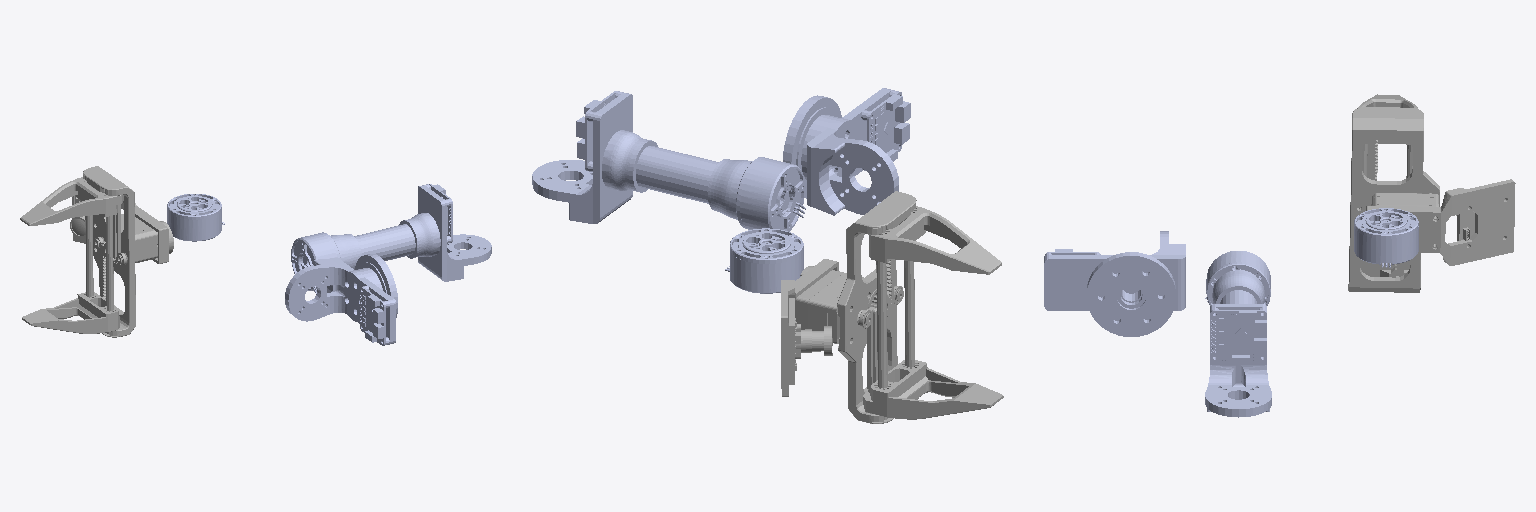
The robot description file, URDF, robot "5-DOF_Arm_ASY_URDF":
<?xml version="1.0" encoding="utf-8"?>
<!-- This URDF was automatically created by SolidWorks to URDF Exporter! Originally created by Stephen Brawner (brawner@gmail.com) 
     Commit Version: 1.6.0-4-g7f85cfe  Build Version: 1.6.7995.38578
     For more information, please see http://wiki.ros.org/sw_urdf_exporter -->
<robot
  name="5-DOF_Arm_ASY_URDF">
  <link
    name="base_link">
    <inertial>
      <origin
        xyz="-5.85060609928024E-05 0.0587381220866654 0.000290800376243343"
        rpy="0 0 0" />
      <mass
        value="0.710649787792469" />
      <inertia
        ixx="0.00155353209409219"
        ixy="2.99815409133027E-09"
        ixz="6.66006887803001E-09"
        iyy="0.0029251821454227"
        iyz="-2.88221197098525E-07"
        izz="0.00156713355051796" />
    </inertial>
    <visual>
      <origin
        xyz="0 0 0"
        rpy="0 0 0" />
      <geometry>
        <mesh
          filename="package://5-DOF_Arm_ASY_URDF/meshes/base_link.STL" />
      </geometry>
      <material
        name="">
        <color
          rgba="0.792156862745098 0.819607843137255 0.933333333333333 1" />
      </material>
    </visual>
    <collision>
      <origin
        xyz="0 0 0"
        rpy="0 0 0" />
      <geometry>
        <mesh
          filename="package://5-DOF_Arm_ASY_URDF/meshes/base_link.STL" />
      </geometry>
    </collision>
  </link>
  <link
    name="shoulder_link">
    <inertial>
      <origin
        xyz="0.00455797125216996 0.113495824081398 1.30475909774525E-08"
        rpy="0 0 0" />
      <mass
        value="0.938949864287003" />
      <inertia
        ixx="0.00327228287506373"
        ixy="-1.30793334529102E-05"
        ixz="-7.39855429715374E-09"
        iyy="0.00173953615004112"
        iyz="-5.20558993633893E-08"
        izz="0.00173416735571829" />
    </inertial>
    <visual>
      <origin
        xyz="0 0 0"
        rpy="0 0 0" />
      <geometry>
        <mesh
          filename="package://5-DOF_Arm_ASY_URDF/meshes/shoulder_link.STL" />
      </geometry>
      <material
        name="">
        <color
          rgba="0.792156862745098 0.819607843137255 0.933333333333333 1" />
      </material>
    </visual>
    <collision>
      <origin
        xyz="0 0 0"
        rpy="0 0 0" />
      <geometry>
        <mesh
          filename="package://5-DOF_Arm_ASY_URDF/meshes/shoulder_link.STL" />
      </geometry>
    </collision>
  </link>
  <joint
    name="shoulder_pan"
    type="revolute">
    <origin
      xyz="0 0.08968 0"
      rpy="0 0 0" />
    <parent
      link="base_link" />
    <child
      link="shoulder_link" />
    <axis
      xyz="0 1 0" />
    <limit
      lower="-1.57"
      upper="1.57"
      effort="6"
      velocity="2.094" />
  </joint>
  <link
    name="upper_arm_link">
    <inertial>
      <origin
        xyz="-0.0018075056743334 0.173246571191649 4.08974846750389E-05"
        rpy="0 0 0" />
      <mass
        value="0.801352411341916" />
      <inertia
        ixx="0.00144154894015789"
        ixy="-7.04457401512263E-05"
        ixz="-5.86484554602265E-08"
        iyy="0.00071947200534214"
        iyz="-1.80844924602234E-07"
        izz="0.000915020760862957" />
    </inertial>
    <visual>
      <origin
        xyz="0 0 0"
        rpy="0 0 0" />
      <geometry>
        <mesh
          filename="package://5-DOF_Arm_ASY_URDF/meshes/upper_arm_link.STL" />
      </geometry>
      <material
        name="">
        <color
          rgba="0.752941176470588 0.752941176470588 1 1" />
      </material>
    </visual>
    <collision>
      <origin
        xyz="0 0 0"
        rpy="0 0 0" />
      <geometry>
        <mesh
          filename="package://5-DOF_Arm_ASY_URDF/meshes/upper_arm_link.STL" />
      </geometry>
    </collision>
  </link>
  <joint
    name="shoulder_lift"
    type="revolute">
    <origin
      xyz="0 0.122 0"
      rpy="0 0 0" />
    <parent
      link="shoulder_link" />
    <child
      link="upper_arm_link" />
    <axis
      xyz="-1 0 0" />
    <limit
      lower="-1.57"
      upper="1.57"
      effort="8"
      velocity="1.571" />
  </joint>
  <link
    name="elbow_link">
    <inertial>
      <origin
        xyz="-0.0307332033438824 0.248490296716952 5.41532440192458E-06"
        rpy="0 0 0" />
      <mass
        value="0.0657083760191284" />
      <inertia
        ixx="4.2637205610944E-05"
        ixy="5.53811761587028E-06"
        ixz="4.52593449381017E-09"
        iyy="1.73498252252824E-05"
        iyz="2.86355028105226E-08"
        izz="3.88115763209182E-05" />
    </inertial>
    <visual>
      <origin
        xyz="0 0 0"
        rpy="0 0 0" />
      <geometry>
        <mesh
          filename="package://5-DOF_Arm_ASY_URDF/meshes/elbow_link.STL" />
      </geometry>
      <material
        name="">
        <color
          rgba="0.792156862745098 0.819607843137255 0.933333333333333 1" />
      </material>
    </visual>
    <collision>
      <origin
        xyz="0 0 0"
        rpy="0 0 0" />
      <geometry>
        <mesh
          filename="package://5-DOF_Arm_ASY_URDF/meshes/elbow_link.STL" />
      </geometry>
    </collision>
  </link>
  <joint
    name="elbow_flex"
    type="revolute">
    <origin
      xyz="0 0 0"
      rpy="0 0 0" />
    <parent
      link="upper_arm_link" />
    <child
      link="elbow_link" />
    <axis
      xyz="-1 0 0" />
    <limit
      lower="-1.57"
      upper="1.57"
      effort="6"
      velocity="2.094" />
  </joint>
  <link
    name="forearm_link">
    <inertial>
      <origin
        xyz="-0.00265421705144897 0.0729550851834356 0.000159744100449932"
        rpy="0 0 0" />
      <mass
        value="0.0855230311922609" />
      <inertia
        ixx="2.27627857558119E-05"
        ixy="4.26014094253286E-06"
        ixz="-3.01720208836949E-08"
        iyy="2.63846802670283E-05"
        iyz="-3.93646159492642E-08"
        izz="2.90161813728108E-05" />
    </inertial>
    <visual>
      <origin
        xyz="0 0 0"
        rpy="0 0 0" />
      <geometry>
        <mesh
          filename="package://5-DOF_Arm_ASY_URDF/meshes/forearm_link.STL" />
      </geometry>
      <material
        name="">
        <color
          rgba="0.792156862745098 0.819607843137255 0.933333333333333 1" />
      </material>
    </visual>
    <collision>
      <origin
        xyz="0 0 0"
        rpy="0 0 0" />
      <geometry>
        <mesh
          filename="package://5-DOF_Arm_ASY_URDF/meshes/forearm_link.STL" />
      </geometry>
    </collision>
  </link>
  <joint
    name="wrist_flex"
    type="revolute">
    <origin
      xyz="-0.0605000000000034 0.272000000000004 0"
      rpy="0 0 0" />
    <parent
      link="elbow_link" />
    <child
      link="forearm_link" />
    <axis
      xyz="0 1 0" />
    <limit
      lower="-1.57"
      upper="1.57"
      effort="2"
      velocity="3.142" />
  </joint>
  <link
    name="gripper_link">
    <inertial>
      <origin
        xyz="-0.0146620900215039 -1.47928303506628E-06 2.68998071692535E-06"
        rpy="0 0 0" />
      <mass
        value="0.0286256293963192" />
      <inertia
        ixx="6.83115713456772E-06"
        ixy="-9.40925090739776E-11"
        ixz="1.71059182478319E-10"
        iyy="4.29016303006166E-06"
        iyz="1.34827576108318E-09"
        izz="4.28845291998976E-06" />
    </inertial>
    <visual>
      <origin
        xyz="0 0 0"
        rpy="0 0 0" />
      <geometry>
        <mesh
          filename="package://5-DOF_Arm_ASY_URDF/meshes/gripper_link.STL" />
      </geometry>
      <material
        name="">
        <color
          rgba="0.792156862745098 0.819607843137255 0.933333333333333 1" />
      </material>
    </visual>
    <collision>
      <origin
        xyz="0 0 0"
        rpy="0 0 0" />
      <geometry>
        <mesh
          filename="package://5-DOF_Arm_ASY_URDF/meshes/gripper_link.STL" />
      </geometry>
    </collision>
  </link>
  <joint
    name="wrist_roll"
    type="revolute">
    <origin
      xyz="-0.0207500000000002 0.147999999478459 0"
      rpy="0 0 0" />
    <parent
      link="forearm_link" />
    <child
      link="gripper_link" />
    <axis
      xyz="-1 0 0" />
    <limit
      lower="-1.57"
      upper="1.57"
      effort="1.5"
      velocity="4.189" />
  </joint>
  <link
    name="end_effector">
    <inertial>
      <origin
        xyz="0.00636514296160168 0.0126956888962646 -0.000241917415701562"
        rpy="0 0 0" />
      <mass
        value="0.106641886707924" />
      <inertia
        ixx="0.000110378060596757"
        ixy="5.26291987273987E-06"
        ixz="-1.08472456105281E-07"
        iyy="9.16444663141654E-05"
        iyz="-8.26088251149649E-07"
        izz="5.06125099618507E-05" />
    </inertial>
    <visual>
      <origin
        xyz="0 0 0"
        rpy="0 0 0" />
      <geometry>
        <mesh
          filename="package://5-DOF_Arm_ASY_URDF/meshes/end_effector.STL" />
      </geometry>
      <material
        name="">
        <color
          rgba="0.752941176470588 0.752941176470588 0.752941176470588 1" />
      </material>
    </visual>
    <collision>
      <origin
        xyz="0 0 0"
        rpy="0 0 0" />
      <geometry>
        <mesh
          filename="package://5-DOF_Arm_ASY_URDF/meshes/end_effector.STL" />
      </geometry>
    </collision>
  </link>
  <joint
    name="gripper"
    type="fixed">
    <origin
      xyz="-0.079773 0 0"
      rpy="0 0 0" />
    <parent
      link="gripper_link" />
    <child
      link="end_effector" />
    <axis
      xyz="0 0 0" />
  </joint>
</robot>

--- Facts derived from the render (not from the file) ---
3 views of the same robot in one strip: view 1: azimuth 30°, elevation 25°; view 2: azimuth 150°, elevation 25°; view 3: azimuth 270°, elevation 25° (orthographic).
Robot: 5-DOF_Arm_ASY_URDF — 7 links, 6 joints (5 revolute, 1 fixed); root link base_link; default pose: every joint at zero.
Visible links, largest first — view 1: end_effector, forearm_link, elbow_link, gripper_link; view 2: end_effector, forearm_link, elbow_link, gripper_link; view 3: end_effector, elbow_link, forearm_link, gripper_link.
Link boxes in pixels (left/top/right/bottom): end_effector: left=20, top=166, right=173, bottom=337; forearm_link: left=291, top=184, right=491, bottom=294; elbow_link: left=285, top=254, right=397, bottom=345; gripper_link: left=167, top=194, right=224, bottom=241; end_effector: left=781, top=191, right=1003, bottom=423; forearm_link: left=532, top=91, right=805, bottom=231; elbow_link: left=783, top=88, right=910, bottom=215; gripper_link: left=725, top=228, right=803, bottom=293; end_effector: left=1348, top=94, right=1515, bottom=292; elbow_link: left=1044, top=231, right=1185, bottom=336; forearm_link: left=1205, top=251, right=1271, bottom=417; gripper_link: left=1354, top=208, right=1418, bottom=267.
Size in the robot's own frame: 0.3643 by 0.3141 by 0.1289 metres.
Meshes: 7 distinct files referenced, 4 mesh visuals loaded (4 binary STL); not drawn: 3 (reference not matched to a file when rendering).
